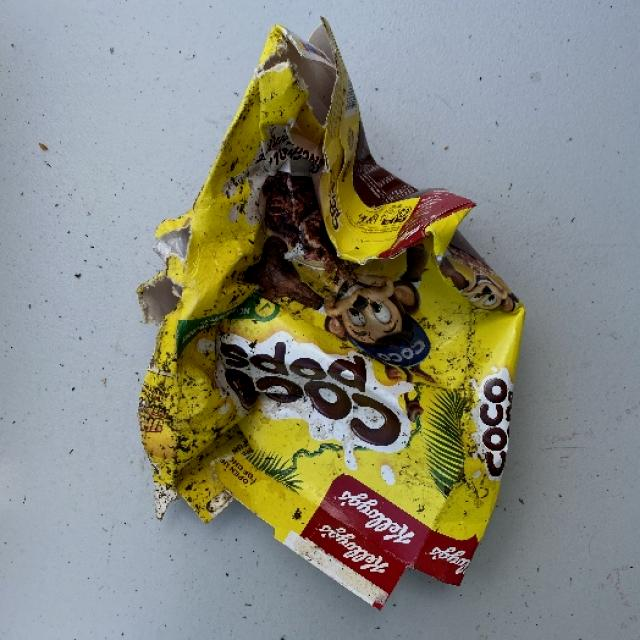kertas: (133, 20, 531, 615)
